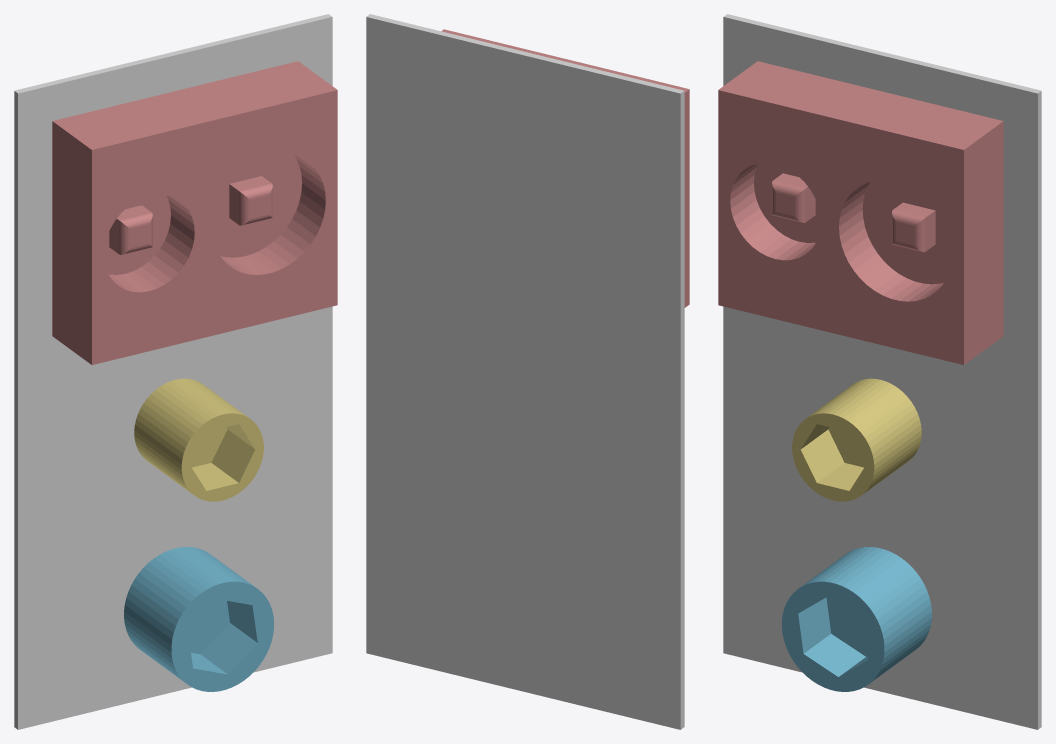
Rendered from pickup_layout.glb.
The picture shows the model from 3 angles, left to right: view 1: azimuth 30°, elevation 25°; view 2: azimuth 150°, elevation 25°; view 3: azimuth 330°, elevation 25°; orthographic projection.
Parts seen in each view (by area): view 1: world, 0.obj, 2.obj, 1.obj; view 2: world, 0.obj; view 3: world, 0.obj, 2.obj, 1.obj.
Boxes of the visible parts, x1,y1,x2,y2 form: world: (14,14,332,729); 0.obj: (52,61,337,364); 2.obj: (124,547,273,691); 1.obj: (134,378,263,501); world: (366,14,684,729); 0.obj: (441,29,689,307); world: (723,14,1041,729); 0.obj: (718,61,1003,364); 2.obj: (782,547,931,691); 1.obj: (792,378,921,501).
Size of the model in its own units: 9.18 by 17.75 by 2.6.
